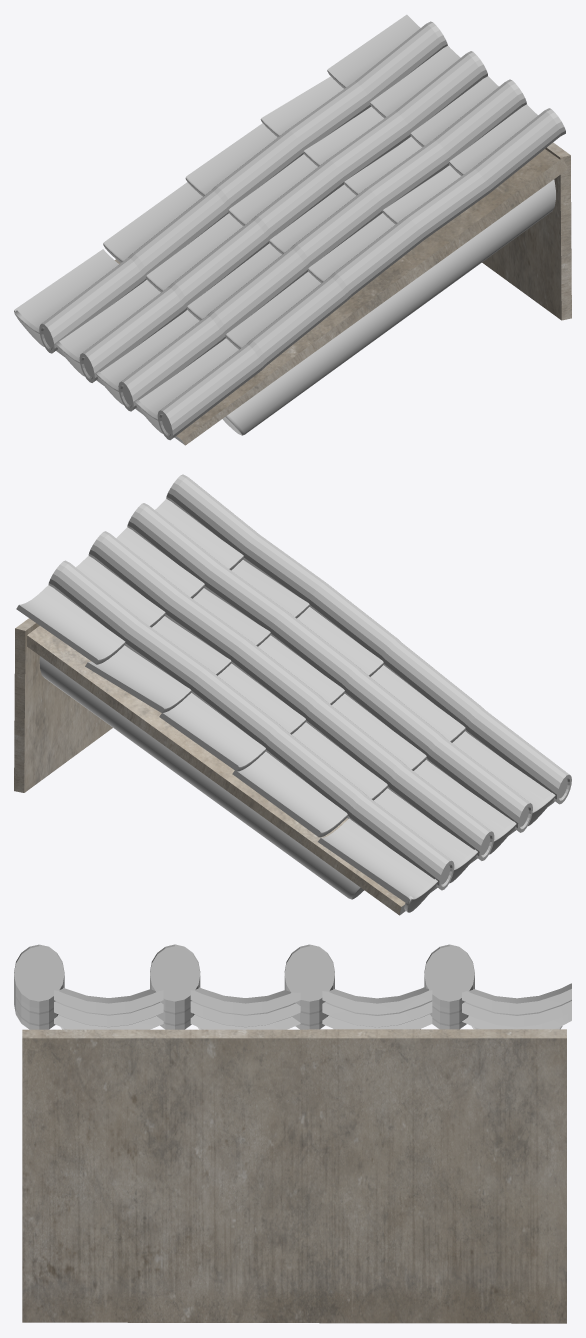
File: SM_Roof_56.fbx
The picture shows the model from 3 angles, top to bottom: view 1: azimuth 30°, elevation 25°; view 2: azimuth 150°, elevation 25°; view 3: azimuth 270°, elevation 25°; orthographic projection. The views are drawn at different scales.
Parts seen in each view (by area): view 1: SM_Roof_56; view 2: SM_Roof_56; view 3: SM_Roof_56.
Part boxes in pixels (x1,y1,x2,y2): SM_Roof_56: [14, 14, 571, 445]; SM_Roof_56: [14, 474, 571, 915]; SM_Roof_56: [14, 944, 571, 1323].
Size of the model in its own units: 281 by 194 by 170.
